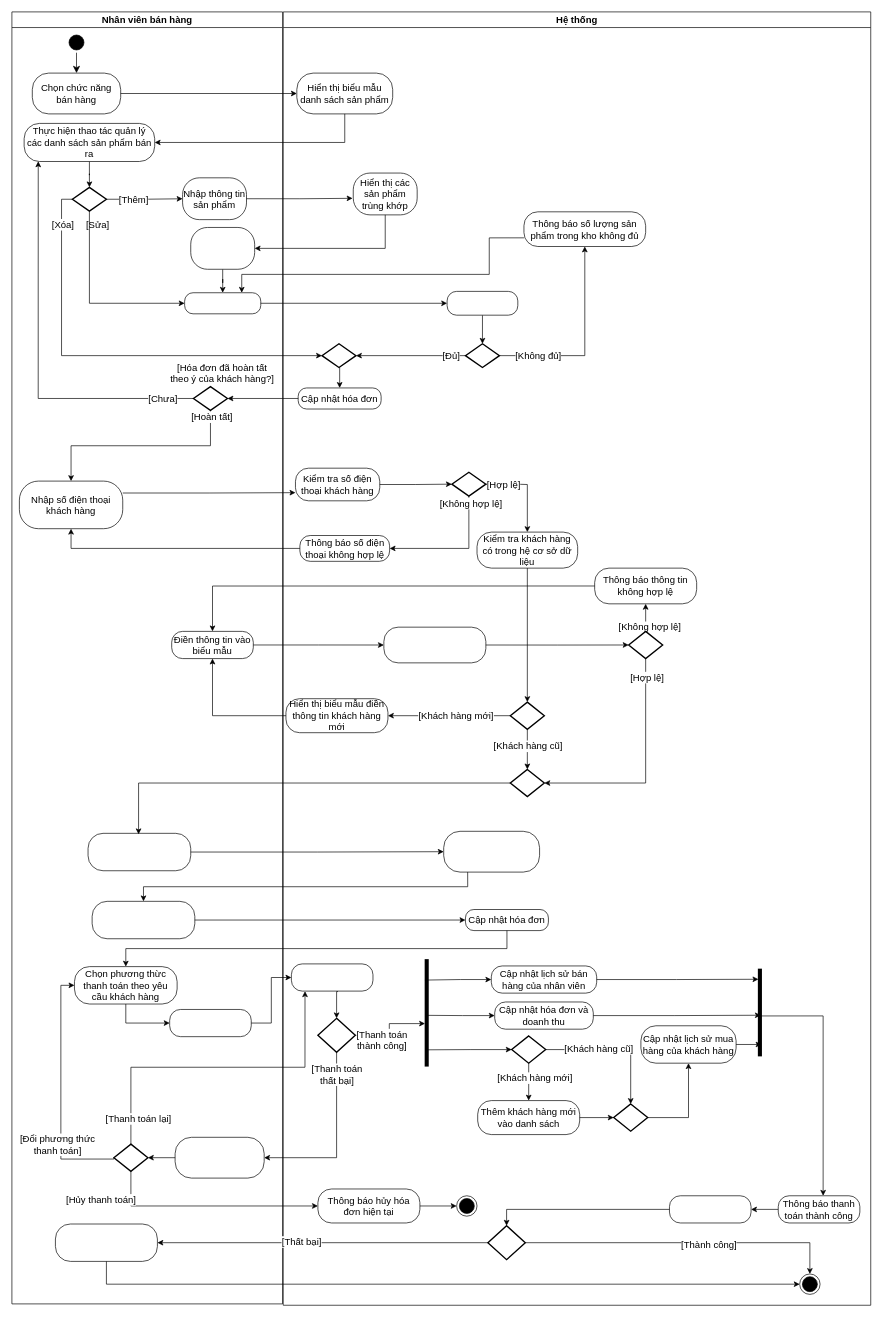
Some shapes in this 883 by 1317 pixel diagram are drawn without their labels. The shapes that lost their labels are listed below. From the top down, each one's centre as x and y in pixels, then its label:
At (x=222, y=248): "Chọn sản phẩm muốn thêm".
At (x=222, y=303): "Nhập số lượng".
At (x=482, y=303): "Kiểm tra tồn kho".
At (x=434, y=644): "Kiểm tra tính hợp lệ của thông tin".
At (x=139, y=852): "Chọn chức năng Áp dụng khuyến mãi".
At (x=491, y=851): "Hiển thị các khuyến mãi có thể áp dụng cho hóa đơn".
At (x=143, y=920): "Chọn khuyến mãi theo yêu cầu khách hàng".
At (x=332, y=977): "Xử lý thanh toán".
At (x=210, y=1023): "Thanh toán cho khách hàng".
At (x=219, y=1157): "Thực hiện thao tác xử lý khi thanh toán thất bại".
At (x=710, y=1209): "Xuất hóa đơn".
At (x=106, y=1242): "Gửi lại hóa đơn qua email hoặc in lại sau".
